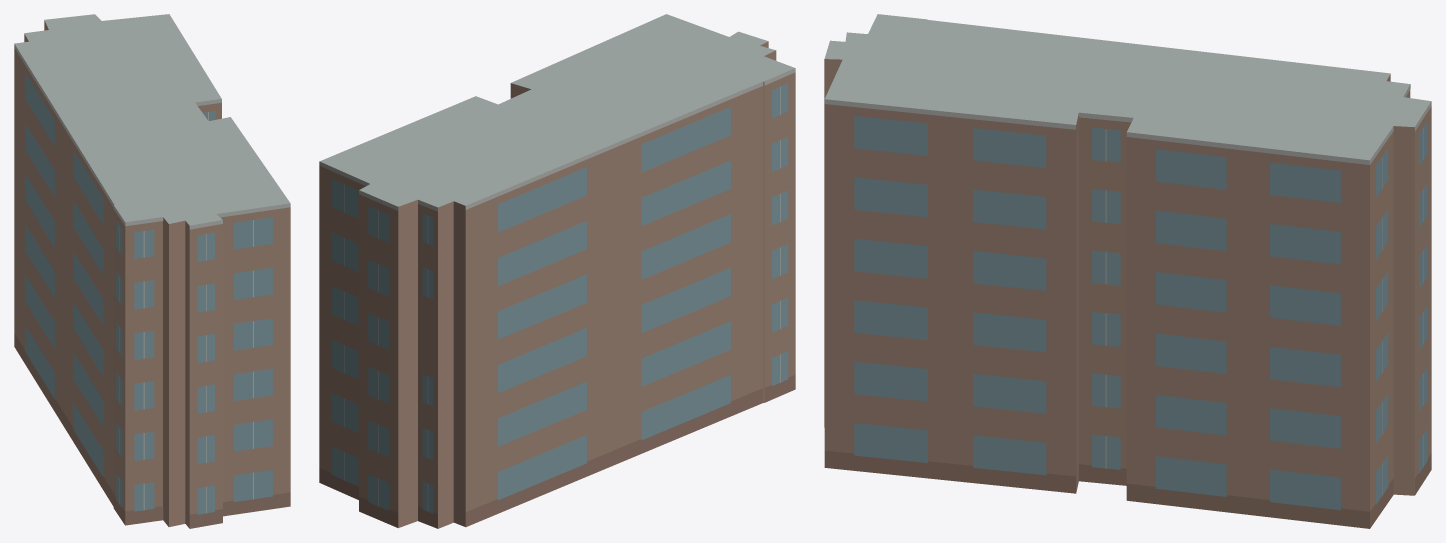
Rendered from survey-upis-32736505.glb.
The picture shows the model from 3 angles, left to right: view 1: azimuth 30°, elevation 25°; view 2: azimuth 150°, elevation 25°; view 3: azimuth 270°, elevation 25°; orthographic projection. The views are drawn at different scales.
Parts seen in each view (by area): view 1: survey-upis-32736505.tmp; view 2: survey-upis-32736505.tmp; view 3: survey-upis-32736505.tmp.
Boxes of the visible parts, x1,y1,x2,y2 form: survey-upis-32736505.tmp: [14, 14, 290, 528]; survey-upis-32736505.tmp: [319, 14, 795, 528]; survey-upis-32736505.tmp: [824, 14, 1431, 528].
Bounding box in the file's own units: 16.02 × 18.8 × 28.08.
